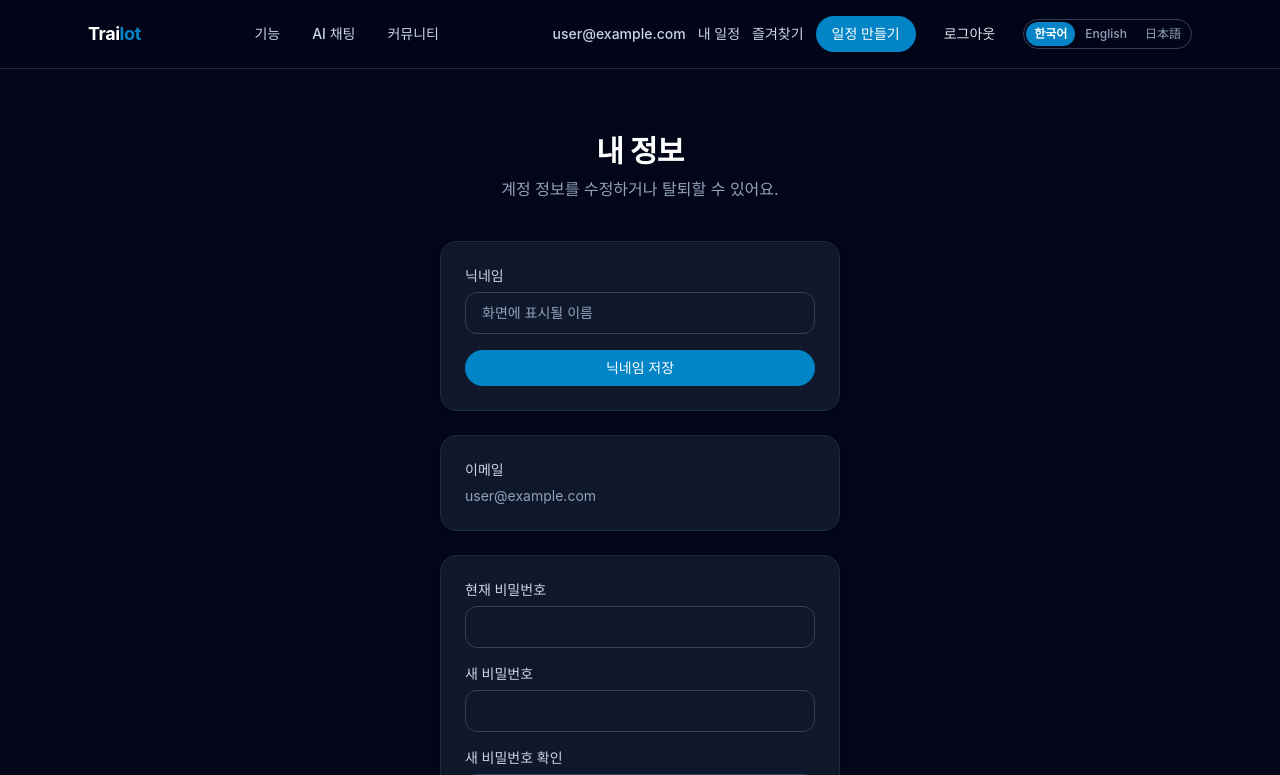
AccountPage › rejects an empty nickname
The image size is (1280, 775).
Click the button "닉네임 저장" at (640, 368), box 465,350 -> 815,386
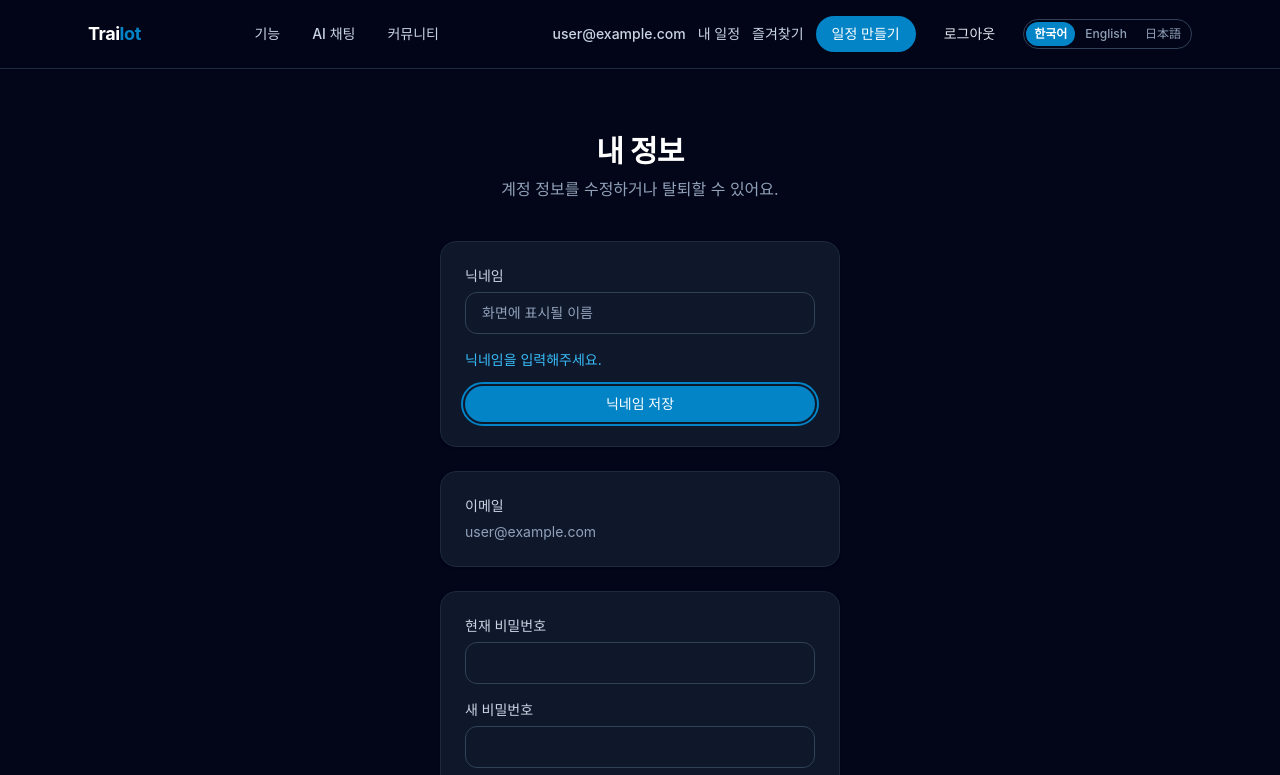
Expected: the text "닉네임을 입력해주세요." is shown, 465,351 -> 602,368
